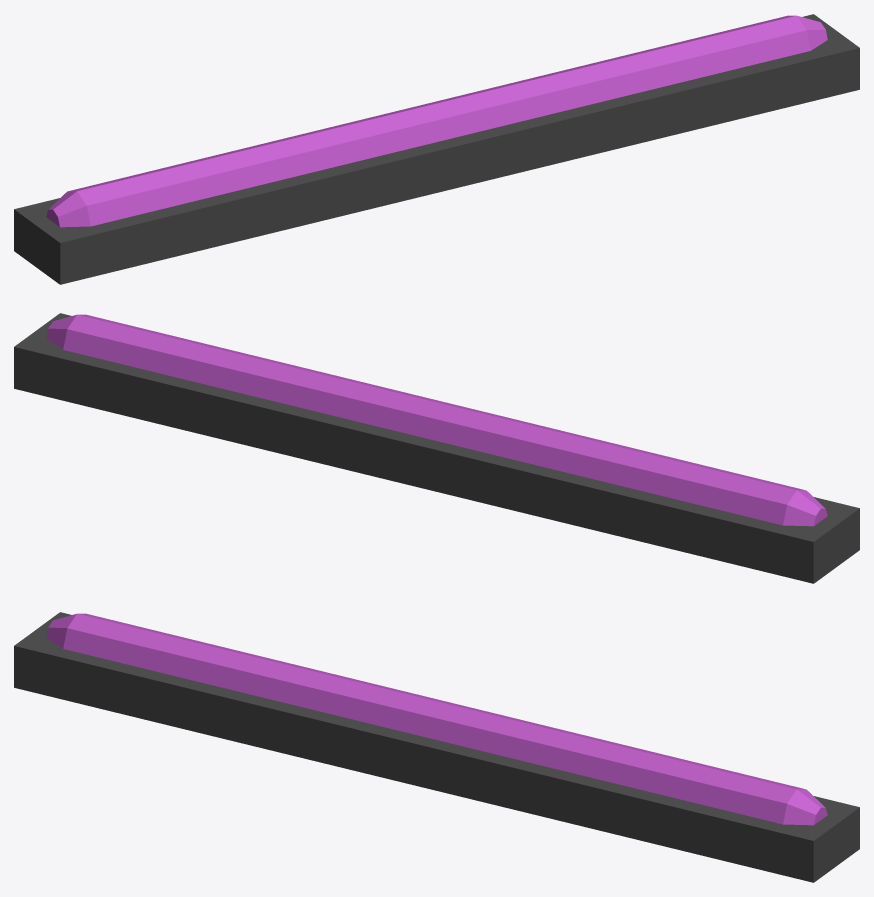
The model's file is Nightclub Light 1.fbx.
3 renders of one model, top to bottom at view 1: azimuth 30°, elevation 25°; view 2: azimuth 150°, elevation 25°; view 3: azimuth 330°, elevation 25°, orthographic.
Parts seen in each view (by area): view 1: Nightclub Light 1; view 2: Nightclub Light 1; view 3: Nightclub Light 1.
Boxes of the visible parts, box(x1,y1,x2,y2) form: Nightclub Light 1: box(14, 14, 859, 284); Nightclub Light 1: box(14, 313, 859, 583); Nightclub Light 1: box(14, 612, 859, 882).
Bounding box in the file's own units: 1000 × 80 × 100.
